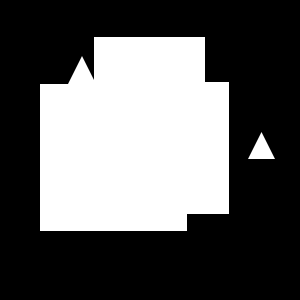circle: (40, 84, 187, 231), (97, 82, 229, 214), (94, 37, 205, 148)
triangle: (66, 56, 98, 88), (248, 132, 275, 159)
